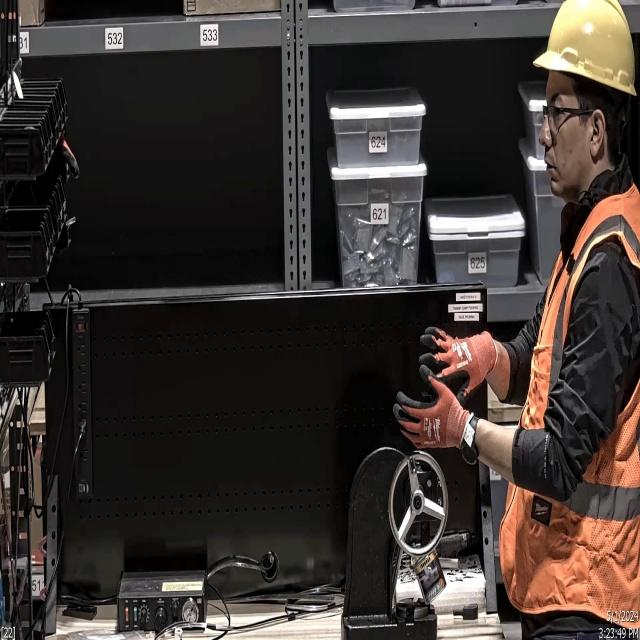construction-gloves: (387, 364, 468, 453)
